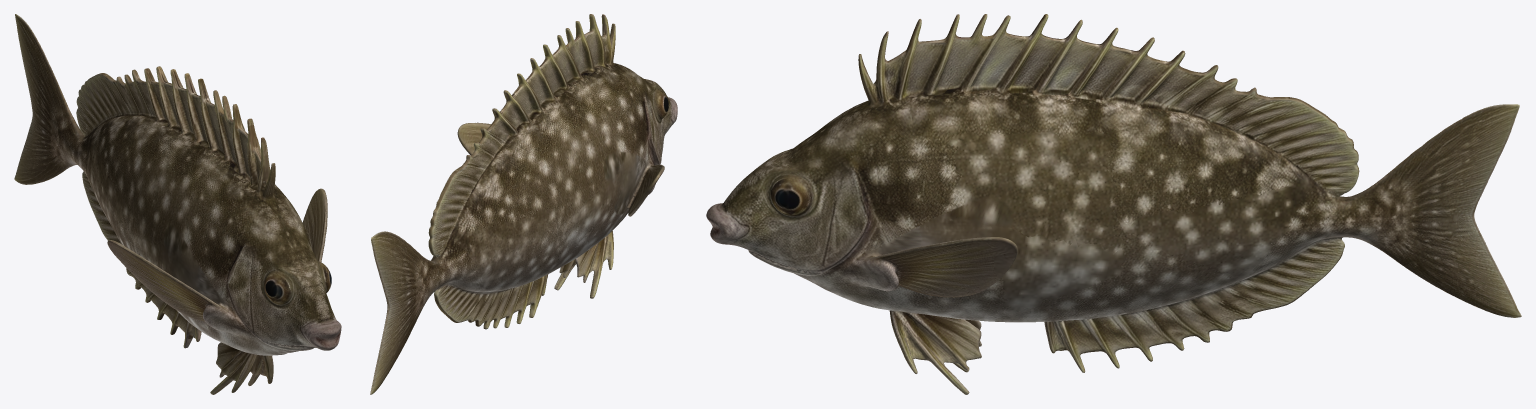
File: aigo.glb
3 views of the same model, side by side, from view 1: azimuth 30°, elevation 25°; view 2: azimuth 150°, elevation 25°; view 3: azimuth 270°, elevation 25° (orthographic). The views are drawn at different scales.
Bounding box in the file's own units: 0.7324 × 0.9473 × 1.9.
Materials: 1 (1 with a texture image).
